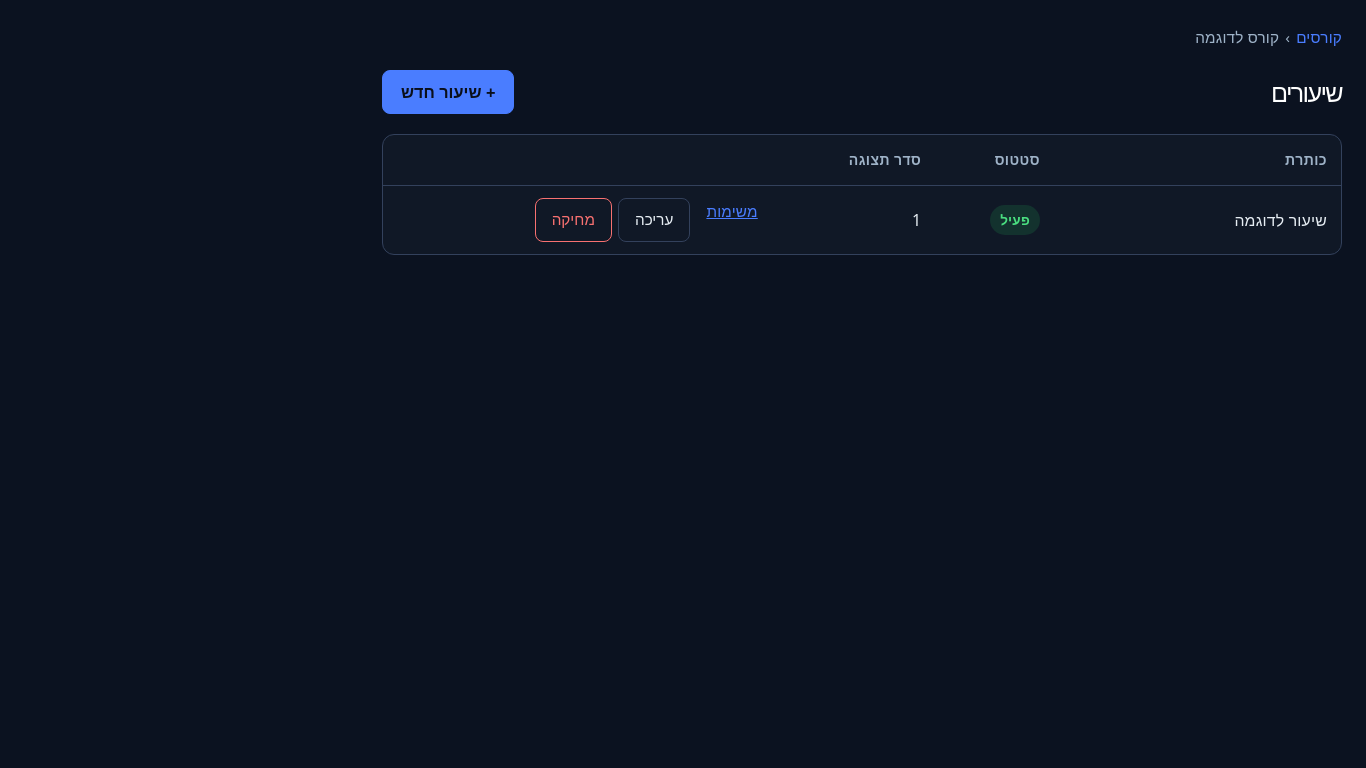
Test case: AdminLessons › opens the create form as a real modal dialog
Click the button "+ שיעור חדש": click(448, 92) [382,70,514,114]
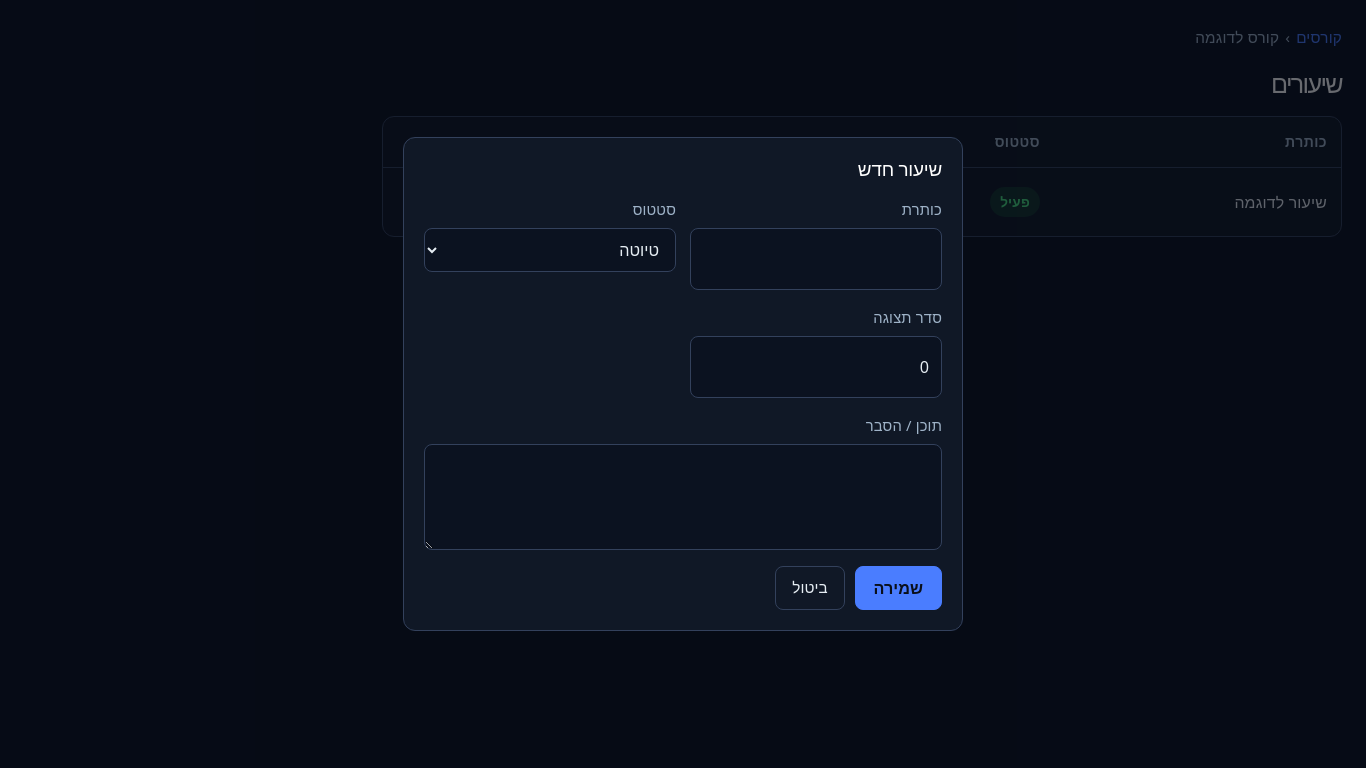
Now the element with test id "lesson-form" is shown, box [403,137,963,631]
